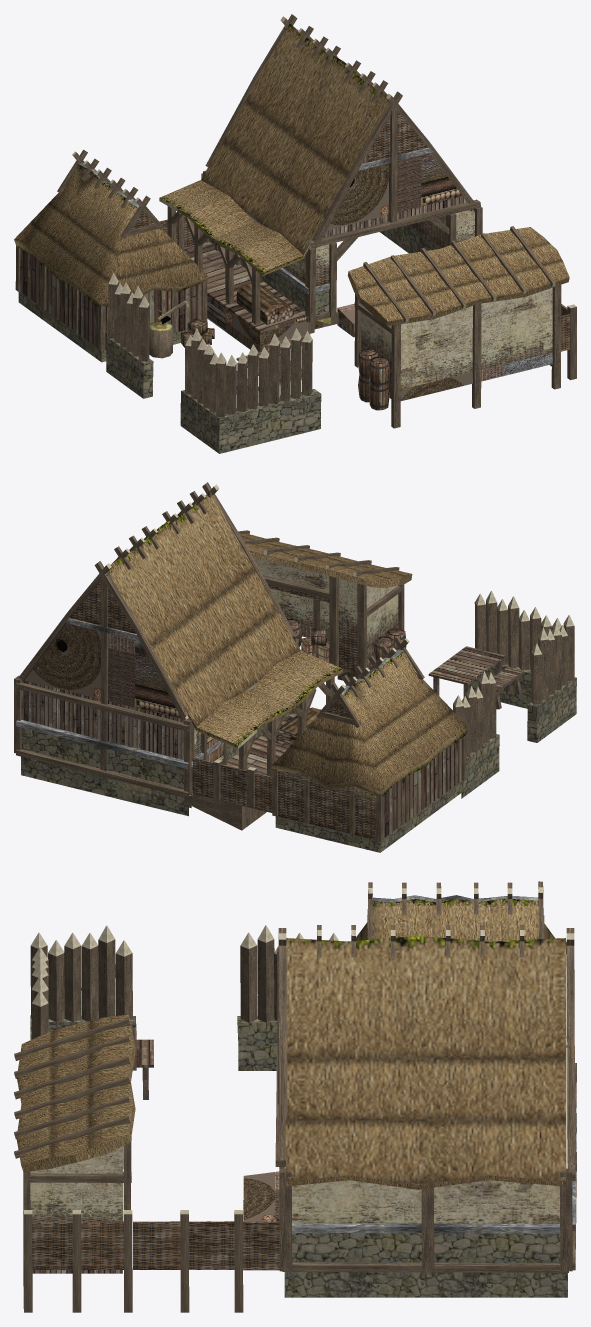
Rendered from arsenal.dae.
3 views of the same model, one above another, from view 1: azimuth 30°, elevation 25°; view 2: azimuth 150°, elevation 25°; view 3: azimuth 270°, elevation 25° (orthographic). The views are drawn at different scales.
Visible parts, largest first — view 1: arsenal; view 2: arsenal; view 3: arsenal.
Part boxes in pixels (x1,y1,x2,y2): arsenal: [14, 14, 576, 453]; arsenal: [14, 482, 576, 852]; arsenal: [14, 881, 576, 1312].
Size of the model in its own units: 30.05 by 29.51 by 19.29.
